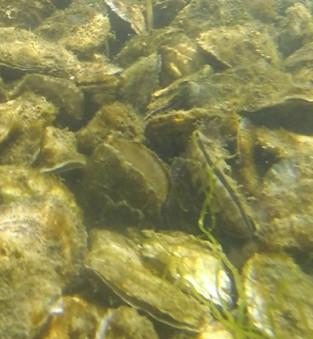3: (86, 231, 212, 331), (80, 139, 172, 230), (186, 134, 258, 239), (0, 28, 81, 76), (95, 306, 158, 339), (145, 87, 188, 121), (40, 152, 87, 178), (61, 74, 118, 95)
Oyster-Closed: (186, 62, 313, 111), (118, 29, 198, 65), (117, 55, 163, 117), (105, 0, 153, 35)
Oyster-Open: (0, 167, 88, 339), (130, 229, 232, 309), (243, 254, 313, 339), (0, 92, 58, 168), (10, 74, 85, 131), (197, 25, 283, 73), (76, 102, 144, 158), (143, 108, 206, 166), (34, 4, 109, 52), (262, 154, 313, 219), (41, 295, 102, 339), (169, 0, 226, 40), (255, 214, 313, 251), (0, 0, 57, 35), (236, 118, 261, 195), (255, 127, 313, 159), (36, 127, 77, 168), (57, 62, 123, 79), (0, 98, 21, 149), (200, 108, 238, 136), (285, 41, 313, 69)
